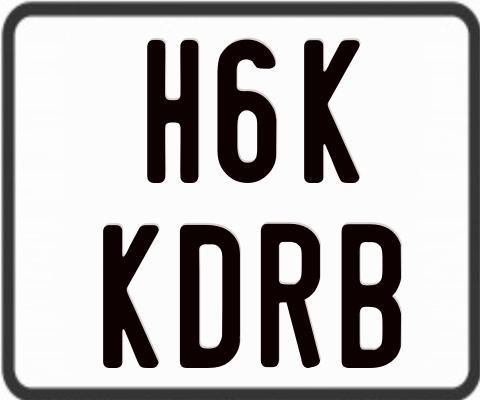6: (217, 39, 277, 187)
B: (341, 222, 405, 370)
D: (179, 225, 240, 368)
H: (144, 39, 200, 182)
K: (304, 38, 363, 182), (100, 222, 157, 371)
R: (260, 222, 321, 371)
